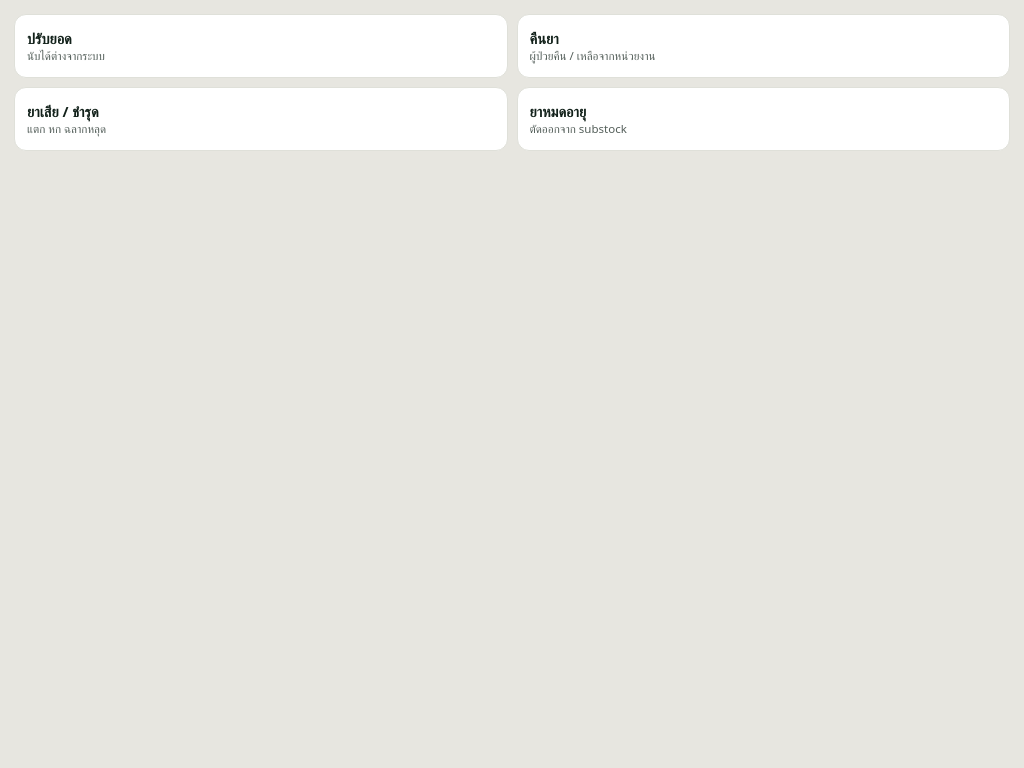
Scenario: AdjustScreen — คืนยา ทีละตัว/ทีละหลายตัว mode toggle regression › ทีละตัว: commits one drug directly via "บันทึกรับคืน", then resets HN for a fresh patient
Click the button "คืนยา ผู้ป่วยคืน / เหลือจากหน่วยงาน". click: click(592, 56)
box: 516,14 -> 1010,78
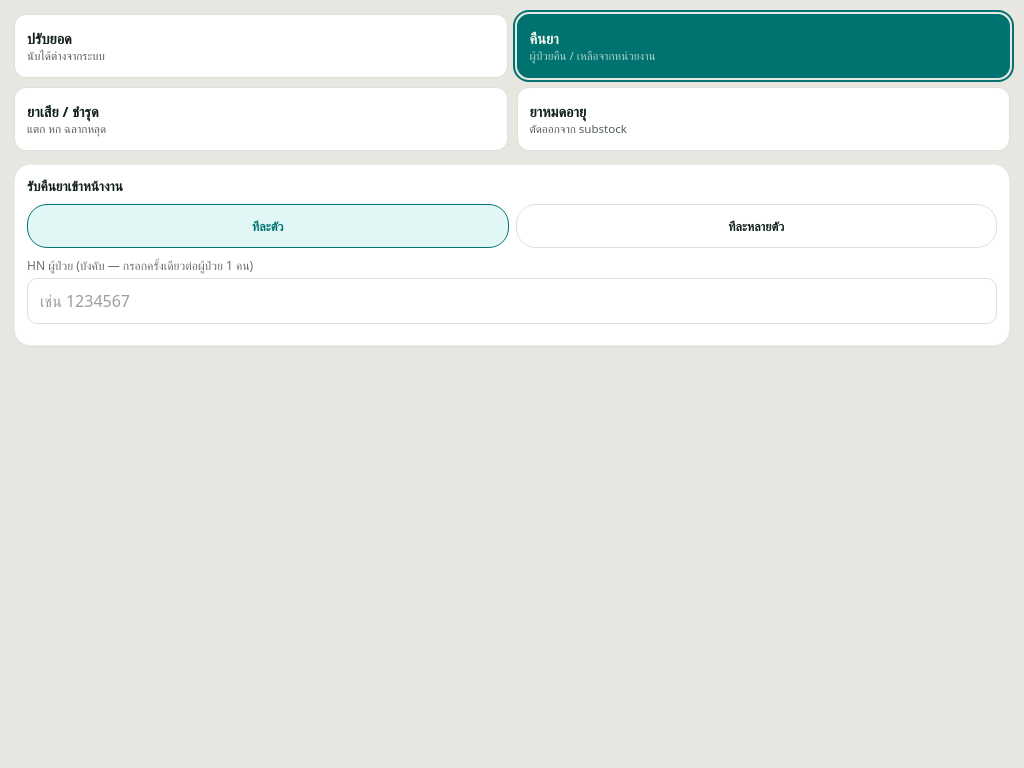
Type "1234567" into the field with placeholder "เช่น 1234567". click: (512, 301)
box: 27,278 -> 997,324
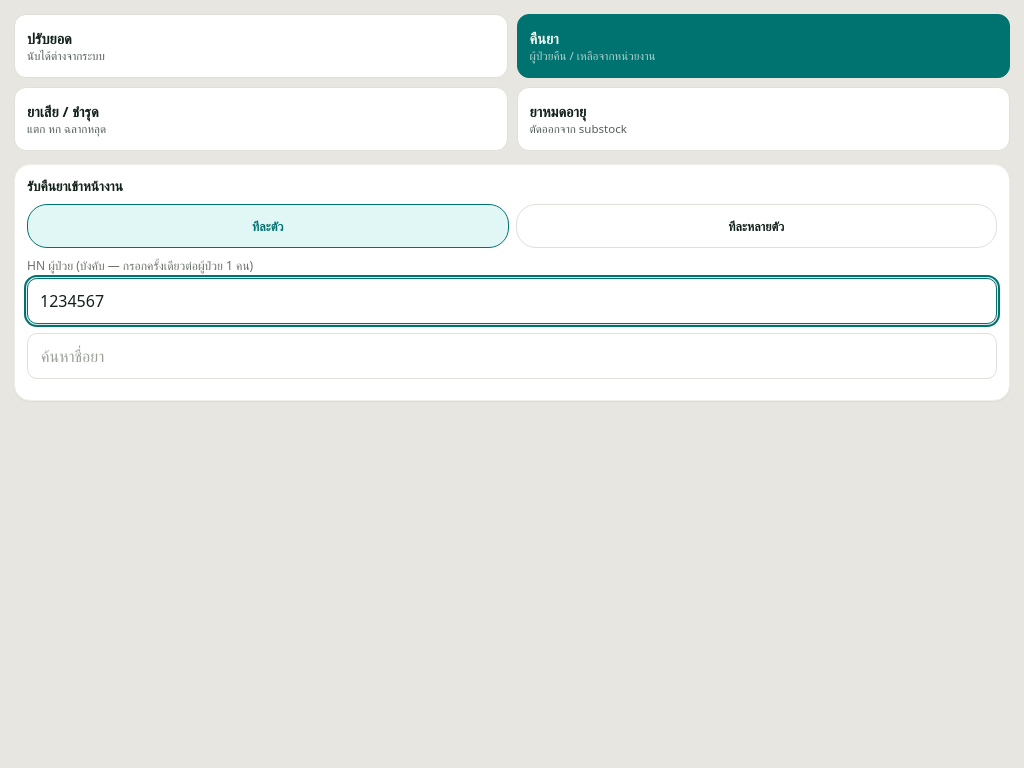
Type "Paracetamol 500mg" into the field with placeholder "ค้นหาชื่อยา". click: (512, 356)
box: 27,333 -> 997,379
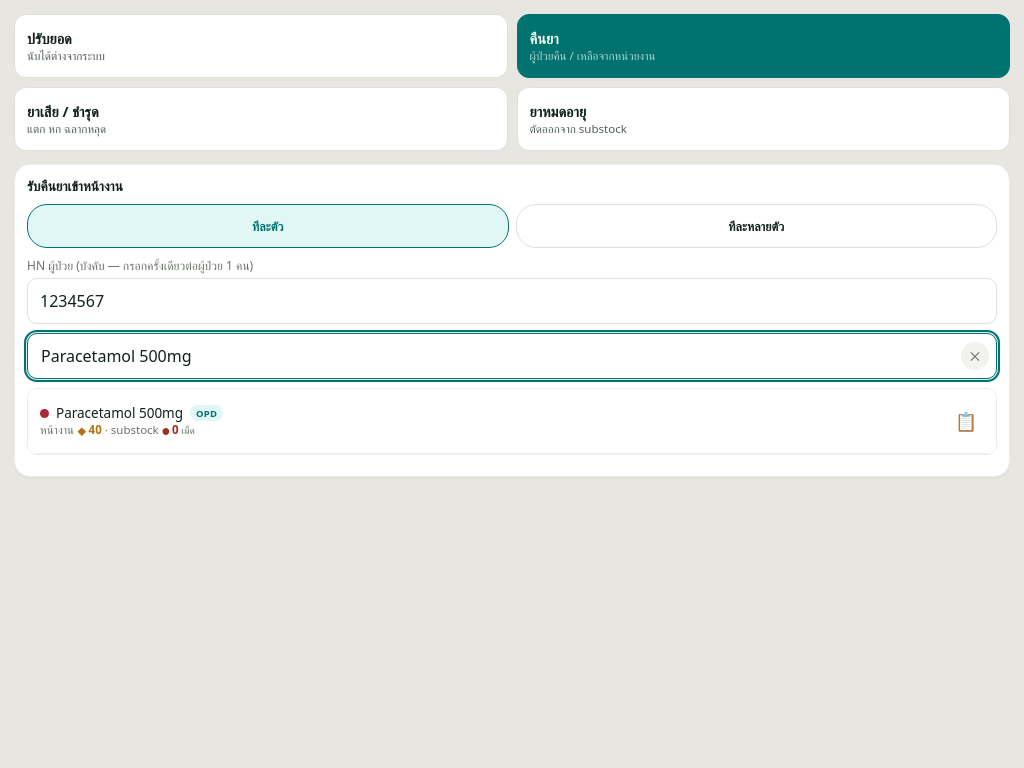
Click the text "Paracetamol 500mg". click: click(132, 413)
box: 40,404 -> 223,422
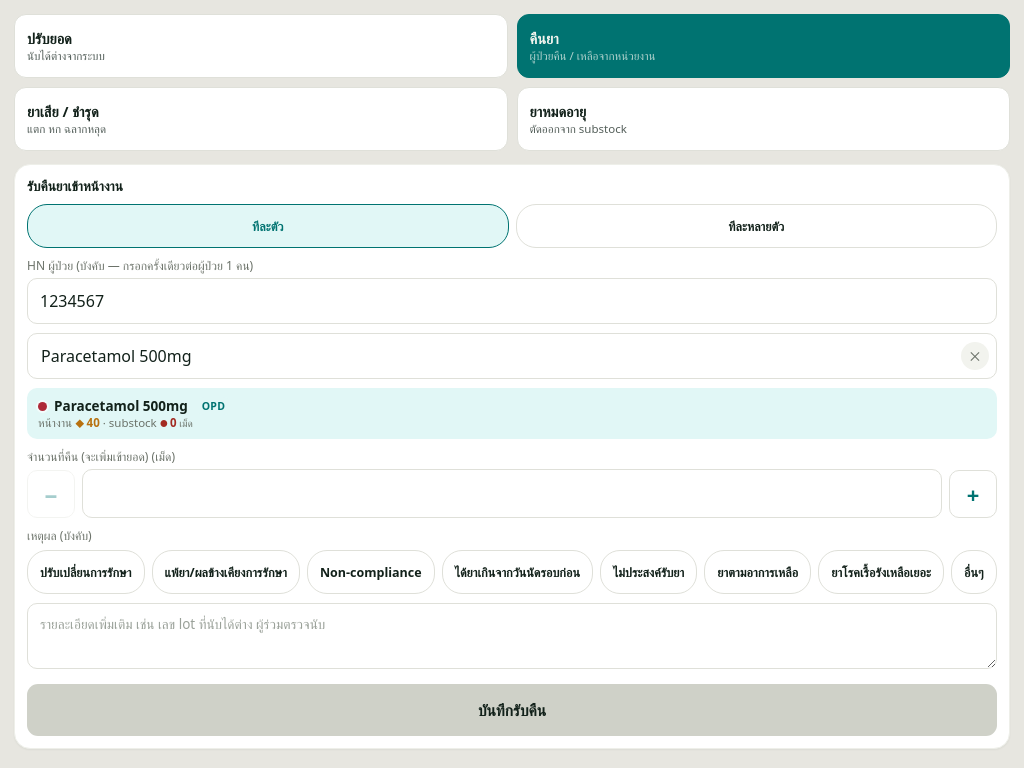
Type "5" into the field below "จำนวนที่คืน (จะเพิ่มเข้ายอด)". click: (512, 494)
box: 82,469 -> 942,518
Click the button "ไม่ประสงค์รับยา". click: click(649, 572)
box: 600,550 -> 697,594
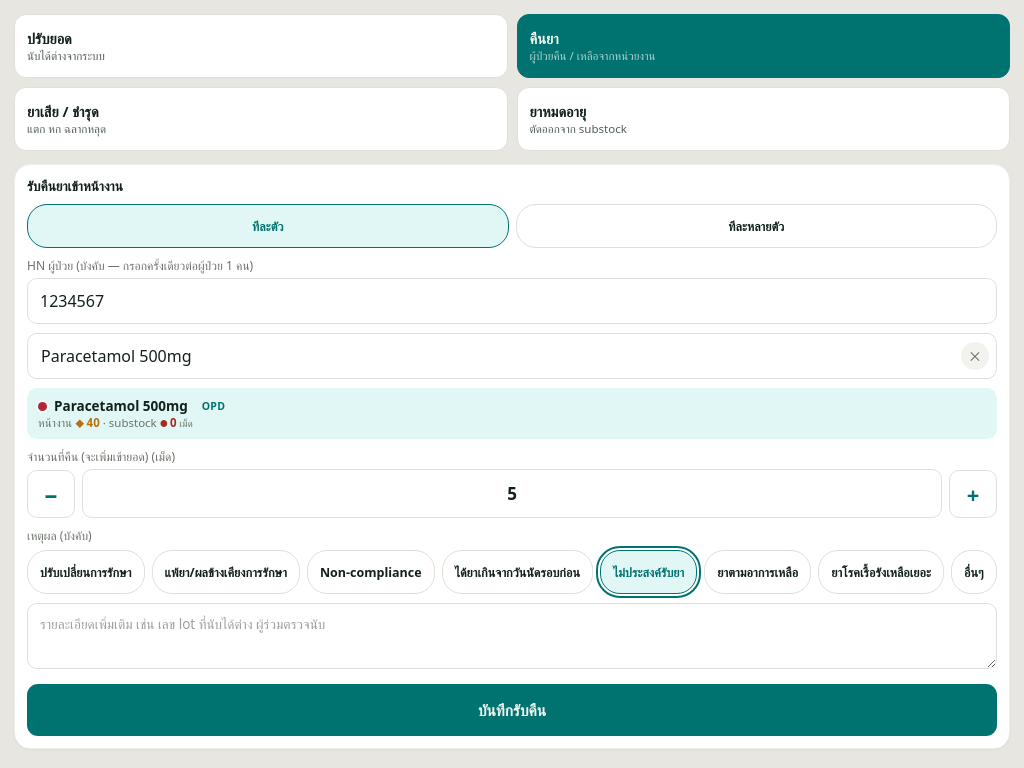
Now the button "บันทึกรับคืน" is enabled
Click the button "บันทึกรับคืน". click: click(512, 710)
box: 27,684 -> 997,736
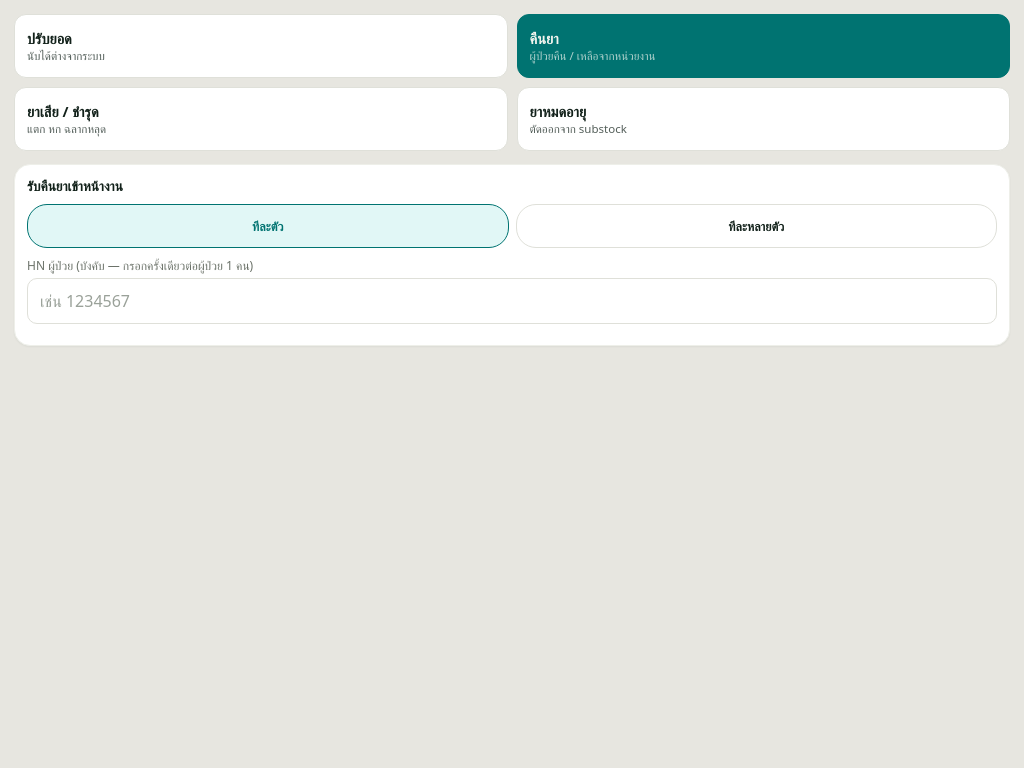
Now the field with placeholder "เช่น 1234567" is empty, box 27,278 -> 997,324
Now the field with placeholder "ค้นหาชื่อยา" is gone
